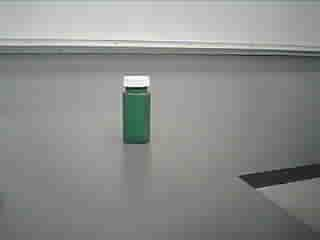Bottle C: (110, 69, 162, 153)
